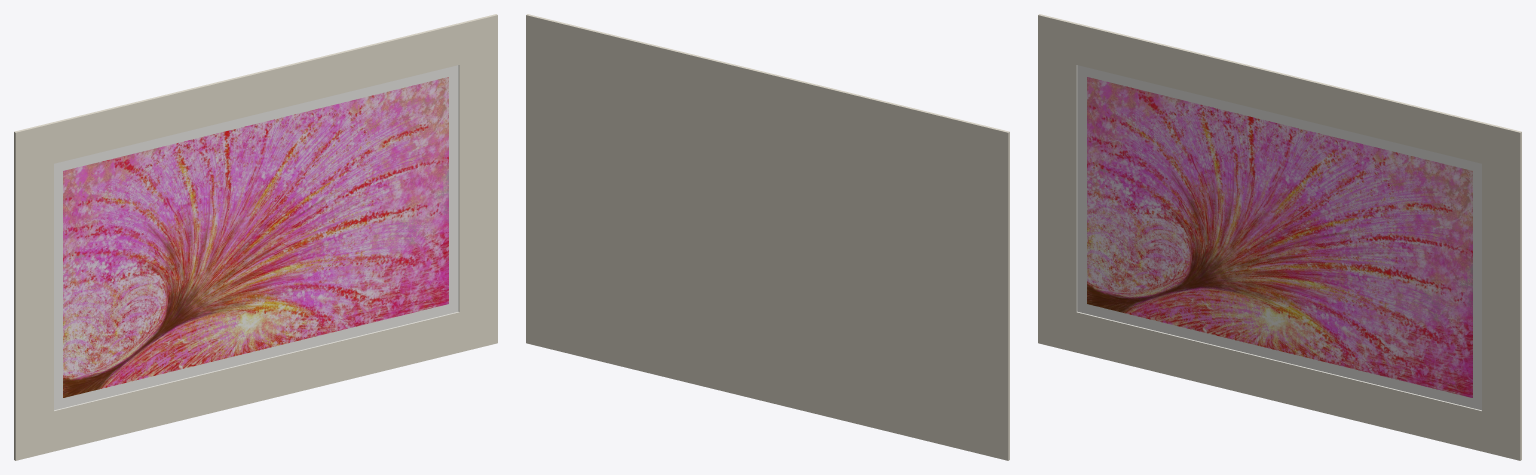
The model's file is hz013_moyen_passe-partout.glb.
3 renders of one model, left to right at view 1: azimuth 30°, elevation 25°; view 2: azimuth 150°, elevation 25°; view 3: azimuth 330°, elevation 25°, orthographic.
Visible parts, largest first — view 1: hz013_moyen_passe-partout; view 2: hz013_moyen_passe-partout; view 3: hz013_moyen_passe-partout.
Part boxes in pixels (left/top/right/bottom): hz013_moyen_passe-partout: left=14, top=14, right=497, bottom=460; hz013_moyen_passe-partout: left=526, top=14, right=1009, bottom=460; hz013_moyen_passe-partout: left=1038, top=14, right=1521, bottom=460.
Size of the model in its own units: 1 by 0.65 by 0.0055.
4 materials, 1 textured.
